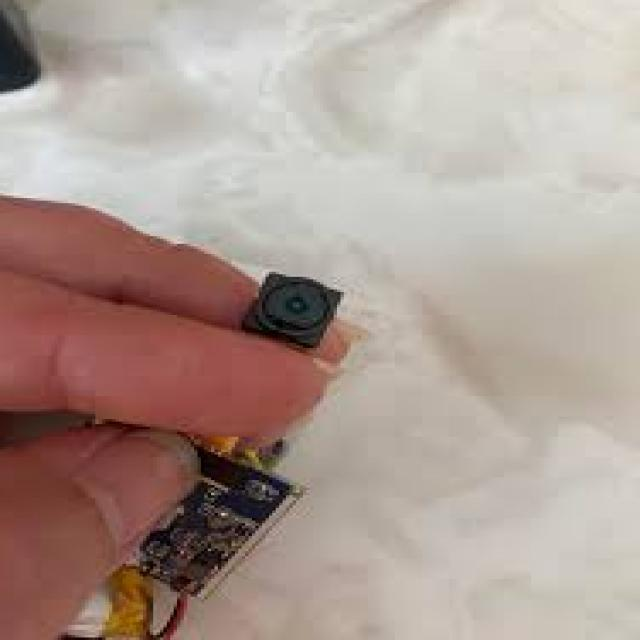hidden camera: (278, 288, 315, 319)
